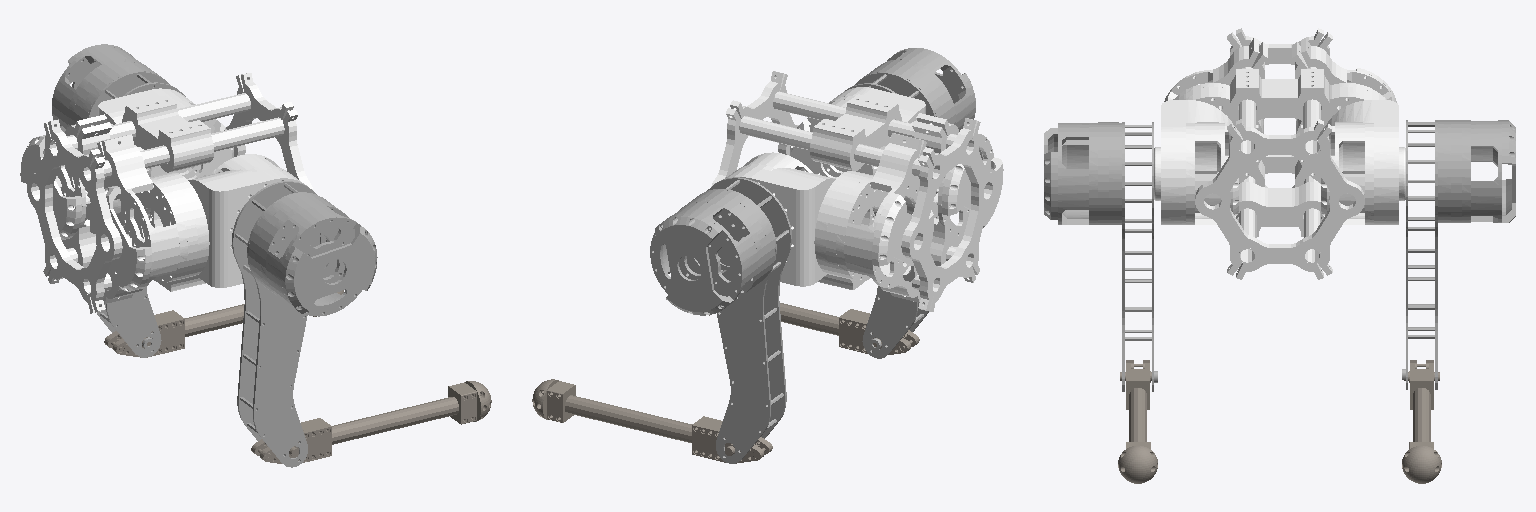
robot.urdf — test9:
<?xml version="1.0" encoding="utf-8"?>
<!-- This URDFically created by SolidWorks to URDF Exporter! Originally created by Stephen Brawner (brawner@gmail.com) 
     Commit Version: 1.6.0-4-g7f85cfe  Build Version: 1.6.7995.38578
     For more information, please see http://wiki.ros.org/sw_urdf_exporter was automat -->
<robot
  name="test9">
  <mujoco>
    <compiler meshdir="../meshes/" />
  </mujoco>
  <link
    name="base_link">
    <inertial>
      <origin
        xyz="-0.00632967278263437 -5.55111512312578E-17 -5.41233724504764E-16"
        rpy="0 0 0" />
      <mass
        value="1.59540197641573" />
      <inertia
        ixx="0.00430953949956777"
        ixy="3.04408843981558E-19"
        ixz="-5.14836515246567E-19"
        iyy="0.00334932732009302"
        iyz="-3.58412014304642E-05"
        izz="0.00292007017857893" />
    </inertial>
    <visual>
      <origin
        xyz="0 0 0"
        rpy="0 0 0" />
      <geometry>
        <mesh
          filename="../meshes/base_link.STL" />
      </geometry>
      <material
        name="">
        <color
          rgba="1 1 1 1" />
      </material>
    </visual>
    <collision>
      <origin
        xyz="0 0 0"
        rpy="0 0 0" />
      <geometry>
        <mesh
          filename="../meshes/base_link.STL" />
      </geometry>
    </collision>
  </link>
  <link
    name="roll_right">
    <inertial>
      <origin
        xyz="0.0217317694784342 -7.66127000853545E-07 -0.0556701170438579"
        rpy="0 0 0" />
      <mass
        value="0.550928882928894" />
      <inertia
        ixx="0.00122241055922876"
        ixy="1.19109332922738E-09"
        ixz="0.000114038922426766"
        iyy="0.000781709844278943"
        iyz="7.69022555279426E-08"
        izz="0.000765390353880947" />
    </inertial>
    <visual>
      <origin
        xyz="0 0 0"
        rpy="0 0 0" />
      <geometry>
        <mesh
          filename="../meshes/roll_right.STL" />
      </geometry>
      <material
        name="">
        <color
          rgba="1 1 1 1" />
      </material>
    </visual>
    <collision>
      <origin
        xyz="0 0 0"
        rpy="0 0 0" />
      <geometry>
        <mesh
          filename="../meshes/roll_right.STL" />
      </geometry>
    </collision>
  </link>
  <joint
    name="hip1r"
    type="revolute">
    <origin
      xyz="0 -0.075 0"
      rpy="1.5708 0 -1.5708" />
    <parent
      link="base_link" />
    <child
      link="roll_right" />
    <axis
      xyz="0 0 -1" />
    <limit
      lower="-3.14"
      upper="3.14"
      effort="20"
      velocity="20" />
      <dynamics damping="0.1" friction="0.05" />
  </joint>
  <link
    name="thigh_right">
    <inertial>
      <origin
        xyz="-0.0439840122107188 0.00495832588280781 0.0427564323742623"
        rpy="0 0 0" />
      <mass
        value="0.638176275712634" />
      <inertia
        ixx="0.000569017818624953"
        ixy="0.000196066705781529"
        ixz="-1.55290195499955E-11"
        iyy="0.00274725597901485"
        iyz="-2.86608322430025E-11"
        izz="0.00328799958763108" />
    </inertial>
    <visual>
      <origin
        xyz="0 0 0"
        rpy="0 0 0" />
      <geometry>
        <mesh
          filename="../meshes/thigh_right.STL" />
      </geometry>
      <material
        name="">
        <color
          rgba="0.752941176470588 0.752941176470588 0.752941176470588 1" />
      </material>
    </visual>
    <collision>
      <origin
        xyz="0 0 0"
        rpy="0 0 0" />
      <geometry>
        <mesh
          filename="../meshes/thigh_right.STL" />
      </geometry>
    </collision>
  </link>
  <joint
    name="hip2r"
    type="revolute">
    <origin
      xyz="0.065499 0 -0.080501"
      rpy="1.5708 0 1.5708" />
    <parent
      link="roll_right" />
    <child
      link="thigh_right" />
    <axis
      xyz="0 0 1" />
    <limit
      lower="-3.14"
      upper="3.14"
      effort="20"
      velocity="20" />
      <dynamics damping="0.1" friction="0.05" />
  </joint>
  <link
    name="knee_right">
    <inertial>
      <origin
        xyz="0.0891269231354579 1.49880108324396E-15 1.90122581791019E-05"
        rpy="0 0 0" />
      <mass
        value="0.149283966309758" />
      <inertia
        ixx="1.75137166735024E-05"
        ixy="-1.64960674458811E-21"
        ixz="6.50019052616477E-21"
        iyy="0.000123415377248099"
        iyz="-7.61186535323619E-12"
        izz="0.000128806092571388" />
    </inertial>
    <visual>
      <origin
        xyz="0 0 0"
        rpy="0 0 0" />
      <geometry>
        <mesh
          filename="../meshes/knee_right.STL" />
      </geometry>
      <material
        name="">
        <color
          rgba="0.647058823529412 0.619607843137255 0.588235294117647 1" />
      </material>
    </visual>
    <collision>
      <origin
        xyz="0 0 0"
        rpy="0 0 0" />
      <geometry>
        <mesh
          filename="../meshes/knee_right.STL" />
      </geometry>
    </collision>
  </link>
  <joint
    name="hip3r"
    type="revolute">
    <origin
      xyz="-0.25 0 0.018"
      rpy="0 0 -1.5708" />
    <parent
      link="thigh_right" />
    <child
      link="knee_right" />
    <axis
      xyz="0 0 1" />
    <limit
      lower="-3.14"
      upper="3.14"
      effort="20"
      velocity="20" />
      <dynamics damping="0.1" friction="0.05" />
  </joint>
  <link
    name="roll_left">
    <inertial>
      <origin
        xyz="0.0217317694784341 7.39045590919529E-07 0.0556700712437631"
        rpy="0 0 0" />
      <mass
        value="0.550928882928894" />
      <inertia
        ixx="0.00122241055922876"
        ixy="-1.19106531148211E-09"
        ixz="-0.000114038922393985"
        iyy="0.00078170984427925"
        iyz="7.69022555766531E-08"
        izz="0.000765390353880638" />
    </inertial>
    <visual>
      <origin
        xyz="0 0 0"
        rpy="0 0 0" />
      <geometry>
        <mesh
          filename="../meshes/roll_left.STL" />
      </geometry>
      <material
        name="">
        <color
          rgba="1 1 1 1" />
      </material>
    </visual>
    <collision>
      <origin
        xyz="0 0 0"
        rpy="0 0 0" />
      <geometry>
        <mesh
          filename="../meshes/roll_left.STL" />
      </geometry>
    </collision>
  </link>
  <joint
    name="hip1l"
    type="revolute">
    <origin
      xyz="0 0.075 0"
      rpy="1.5708 0 1.5708" />
    <parent
      link="base_link" />
    <child
      link="roll_left" />
    <axis
      xyz="0 0 1" />
    <limit
      lower="-3.14"
      upper="3.14"
      effort="20"
      velocity="20" />
      <dynamics damping="0.1" friction="0.05" />
  </joint>
  <link
    name="thigh_left">
    <inertial>
      <origin
        xyz="0.0414038198800671 -0.00495745067329807 -0.0427564323742624"
        rpy="0 0 0" />
      <mass
        value="0.638176275712634" />
      <inertia
        ixx="0.00053187602929387"
        ixy="0.000198838108346828"
        ixz="-2.97368911698888E-11"
        iyy="0.00278439776834593"
        iyz="-1.33533173941797E-11"
        izz="0.00328799958763108" />
    </inertial>
    <visual>
      <origin
        xyz="0 0 0"
        rpy="0 0 0" />
      <geometry>
        <mesh
          filename="../meshes/thigh_left.STL" />
      </geometry>
      <material
        name="">
        <color
          rgba="0.752941176470588 0.752941176470588 0.752941176470588 1" />
      </material>
    </visual>
    <collision>
      <origin
        xyz="0 0 0"
        rpy="0 0 0" />
      <geometry>
        <mesh
          filename="../meshes/thigh_left.STL" />
      </geometry>
    </collision>
  </link>
  <joint
    name="hip2l"
    type="revolute">
    <origin
      xyz="0.065499 0 0.0805"
      rpy="1.5708 0 -1.5708" />
    <parent
      link="roll_left" />
    <child
      link="thigh_left" />
    <axis
      xyz="0 0 -1" />
    <limit
      lower="-3.14"
      upper="3.14"
      effort="20"
      velocity="20" />
      <dynamics damping="0.1" friction="0.05" />
  </joint>
  <link
    name="knee_left">
    <inertial>
      <origin
        xyz="0.089126923135458 -1.4432899320127E-15 -1.90122581791852E-05"
        rpy="0 0 0" />
      <mass
        value="0.149283966309758" />
      <inertia
        ixx="1.75137166735023E-05"
        ixy="7.01540915759886E-21"
        ixz="-7.80028323483621E-21"
        iyy="0.000123415377248099"
        iyz="-7.61186534949133E-12"
        izz="0.000128806092571388" />
    </inertial>
    <visual>
      <origin
        xyz="0 0 0"
        rpy="0 0 0" />
      <geometry>
        <mesh
          filename="../meshes/knee_left.STL" />
      </geometry>
      <material
        name="">
        <color
          rgba="0.647058823529412 0.619607843137255 0.588235294117647 1" />
      </material>
    </visual>
    <collision>
      <origin
        xyz="0 0 0"
        rpy="0 0 0" />
      <geometry>
        <mesh
          filename="../meshes/knee_left.STL" />
      </geometry>
    </collision>
  </link>
  <joint
    name="hip3l"
    type="revolute">
    <origin
      xyz="0.25 0 -0.018"
      rpy="0 0 1.5708" />
    <parent
      link="thigh_left" />
    <child
      link="knee_left" />
    <axis
      xyz="0 0 -1" />
    <limit
      lower="-3.14"
      upper="3.14"
      effort="20"
      velocity="20" />
      <dynamics damping="0.1" friction="0.05" />
  </joint>
<link name="foot_contact_right">
    <inertial>
      <mass value="1e-5"/>
      <inertia ixx="1e-6" ixy="0" ixz="0" iyy="1e-6" iyz="0" izz="1e-6"/>
    </inertial>
  </link>
  <joint name="knee_to_foot_r" type="fixed">
    <origin xyz="-0.23 0 0" rpy="0 0 0"/> 
    <parent link="knee_right"/>
    <child link="foot_contact_right"/>
  </joint>

  <link name="foot_contact_left">
    <inertial>
      <mass value="1e-5"/>
      <inertia ixx="1e-6" ixy="0" ixz="0" iyy="1e-6" iyz="0" izz="1e-6"/>
    </inertial>
  </link>
  <joint name="knee_to_foot_l" type="fixed">
    <origin xyz="0.23 0 0" rpy="0 0 0"/> 
    <parent link="knee_left"/>
    <child link="foot_contact_left"/>
  </joint>
</robot>

--- Facts derived from the render (not from the file) ---
3 views of the same robot in one strip: view 1: azimuth 30°, elevation 25°; view 2: azimuth 150°, elevation 25°; view 3: azimuth 270°, elevation 25° (orthographic).
Model test9 with 9 links and 8 joints (6 revolute, 2 fixed), rooted at base_link, posed all joints at 0.
Visible links, largest first — view 1: base_link, thigh_right, thigh_left, roll_right, knee_right, knee_left, roll_left; view 2: base_link, thigh_left, thigh_right, roll_left, knee_left, knee_right, roll_right; view 3: base_link, thigh_right, thigh_left, roll_right, roll_left, knee_left, knee_right.
Link boxes in pixels (left/top/right/bottom): base_link: left=20, top=73, right=313, bottom=313; thigh_right: left=232, top=181, right=377, bottom=467; thigh_left: left=52, top=44, right=185, bottom=357; roll_right: left=188, top=154, right=306, bottom=287; knee_right: left=251, top=381, right=491, bottom=463; knee_left: left=104, top=290, right=343, bottom=357; roll_left: left=98, top=88, right=233, bottom=179; base_link: left=711, top=71, right=1003, bottom=311; thigh_left: left=650, top=177, right=791, bottom=463; thigh_right: left=845, top=48, right=975, bottom=358; roll_left: left=725, top=152, right=835, bottom=286; knee_left: left=532, top=379, right=772, bottom=463; knee_right: left=709, top=303, right=919, bottom=354; roll_right: left=790, top=87, right=925, bottom=178; base_link: left=1164, top=28, right=1396, bottom=279; thigh_right: left=1044, top=122, right=1157, bottom=391; thigh_left: left=1402, top=120, right=1515, bottom=389; roll_right: left=1154, top=100, right=1238, bottom=224; roll_left: left=1321, top=100, right=1405, bottom=224; knee_left: left=1402, top=360, right=1441, bottom=483; knee_right: left=1118, top=360, right=1157, bottom=483.
Bounding box of the posed robot: 0.4295 × 0.5262 × 0.3695 m (x, y, z).
Meshes: 7 distinct files referenced, 7 mesh visuals loaded (7 binary STL).
